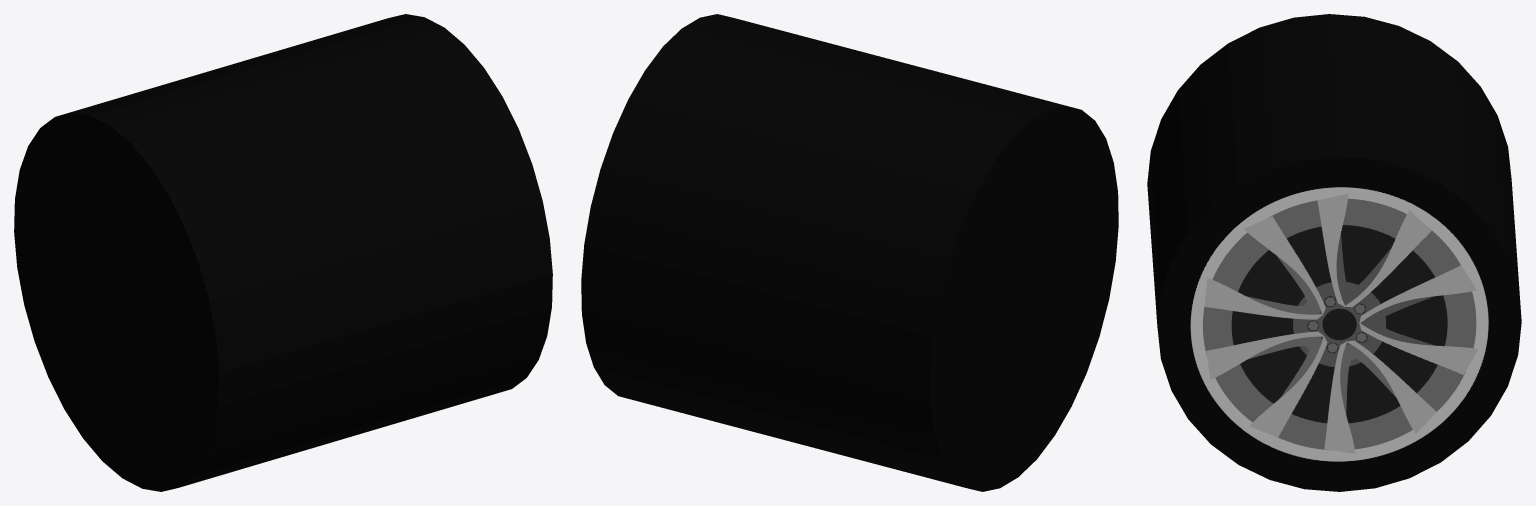
The model's file is wheelFrontLeft.obj.
The picture shows the model from 3 angles, left to right: view 1: azimuth 30°, elevation 25°; view 2: azimuth 150°, elevation 25°; view 3: azimuth 270°, elevation 25°; orthographic projection. The views are drawn at different scales.
Parts seen in each view (by area): view 1: Cylinder; view 2: Cylinder; view 3: Cylinder.
Part boxes in pixels (x1,y1,x2,y2): Cylinder: [14, 14, 552, 491]; Cylinder: [581, 14, 1118, 491]; Cylinder: [1147, 14, 1521, 491].
Bounding box in the file's own units: 1.36 × 1.35 × 1.34.
